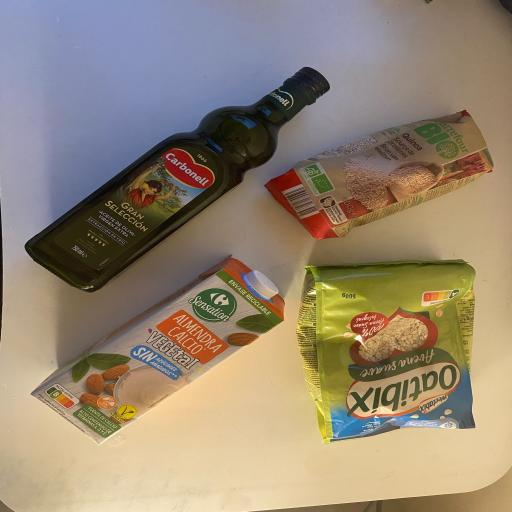almond_milk: (26, 254, 291, 449)
oats: (295, 259, 480, 444)
olive_oil: (20, 64, 331, 295)
quinoa: (266, 105, 496, 243)
